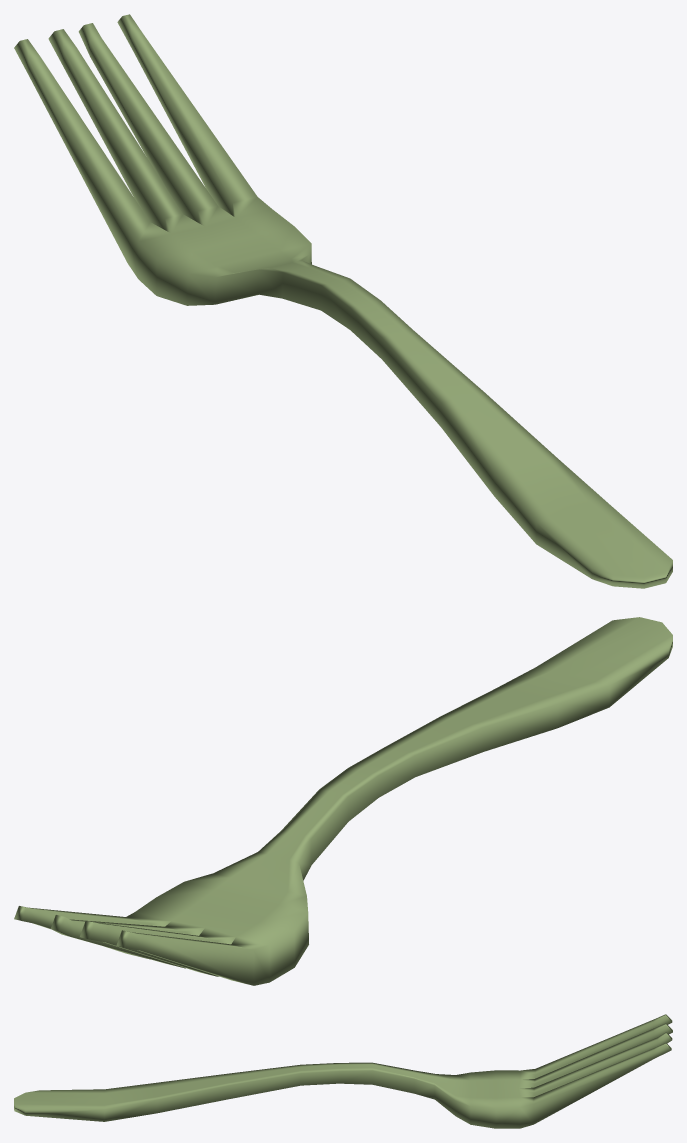
The model's file is TENEDOR.fbx.
The picture shows the model from 3 angles, top to bottom: view 1: azimuth 30°, elevation 25°; view 2: azimuth 150°, elevation 25°; view 3: azimuth 270°, elevation 25°; orthographic projection. The views are drawn at different scales.
Parts seen in each view (by area): view 1: pCube1; view 2: pCube1; view 3: pCube1.
Part boxes in pixels (x1,y1,x2,y2): pCube1: (14,14,672,588); pCube1: (14,617,672,985); pCube1: (14,1014,672,1128).
Bounding box in the file's own units: 2.69 × 2.72 × 19.7.
